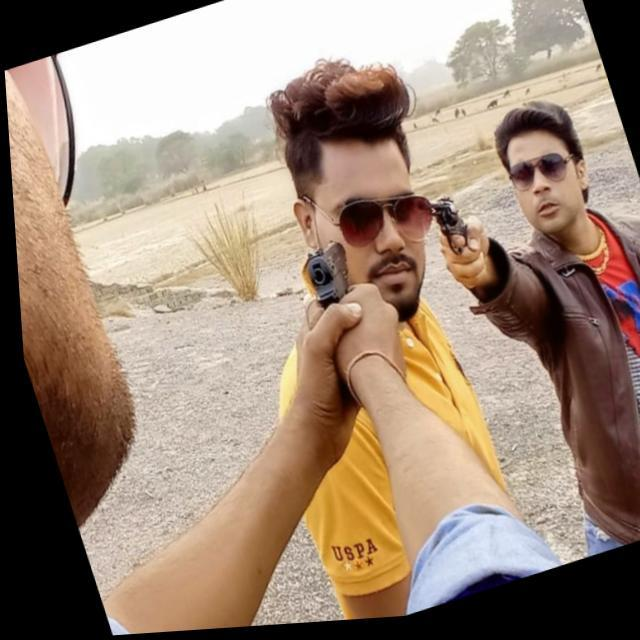weapon: (292, 236, 376, 368), (406, 186, 484, 288)
